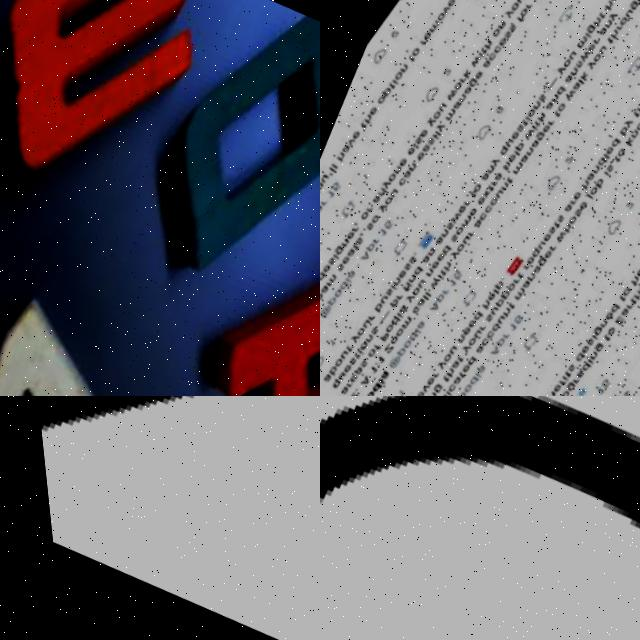1: (359, 365, 371, 377), (365, 355, 377, 367), (440, 281, 451, 291), (499, 326, 510, 335), (371, 230, 382, 239), (320, 190, 330, 199), (386, 389, 396, 396), (584, 391, 595, 396), (320, 340, 327, 347)
2: (557, 158, 570, 172), (438, 68, 451, 82), (617, 204, 630, 217), (388, 30, 400, 41), (336, 391, 351, 396)
3: (490, 108, 502, 119)
5: (588, 381, 603, 396), (502, 316, 517, 331), (443, 271, 458, 286), (323, 180, 338, 195), (376, 220, 389, 234)
A: (117, 226, 320, 396)
D: (320, 396, 640, 640), (97, 0, 320, 319)
W: (0, 0, 238, 243)
X: (0, 396, 320, 640)
